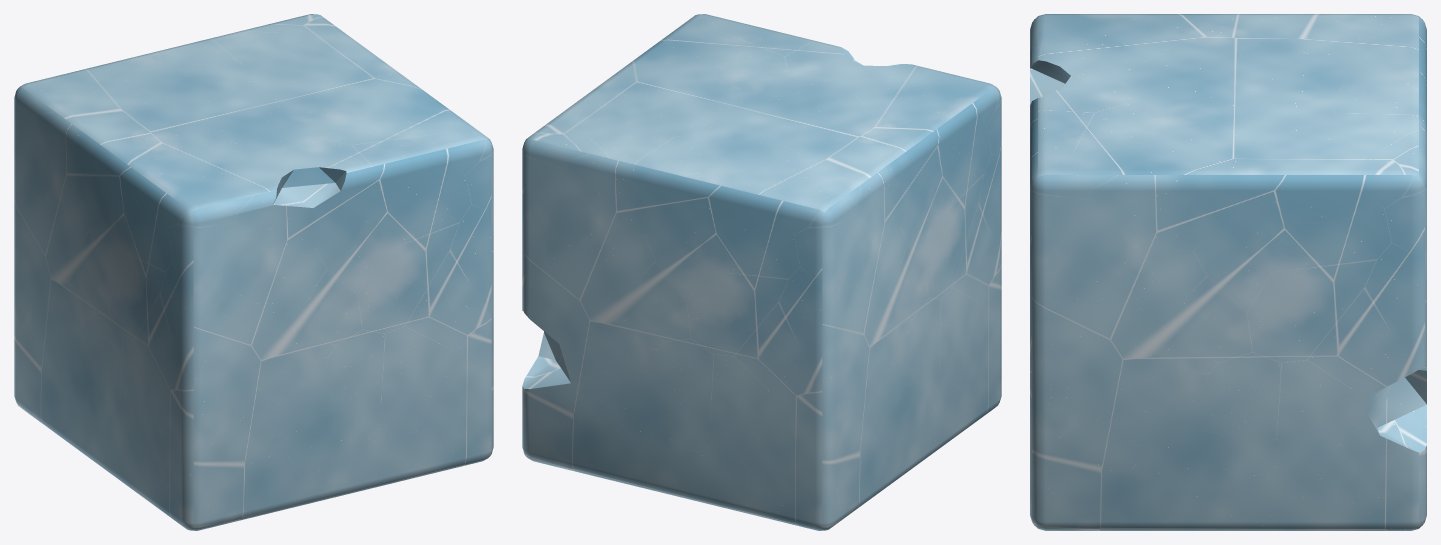
File: SM_IceBlock_100.fbx
3 renders of one model, left to right at view 1: azimuth 30°, elevation 25°; view 2: azimuth 150°, elevation 25°; view 3: azimuth 270°, elevation 25°, orthographic. The views are drawn at different scales.
Parts seen in each view (by area): view 1: SM_IceBlock_100; view 2: SM_IceBlock_100; view 3: SM_IceBlock_100.
Boxes of the visible parts, x1,y1,x2,y2 form: SM_IceBlock_100: (14,14,493,530); SM_IceBlock_100: (522,14,1001,530); SM_IceBlock_100: (1030,14,1426,530).
Size of what is drawn, in the model's own units: 100 by 100 by 100.
